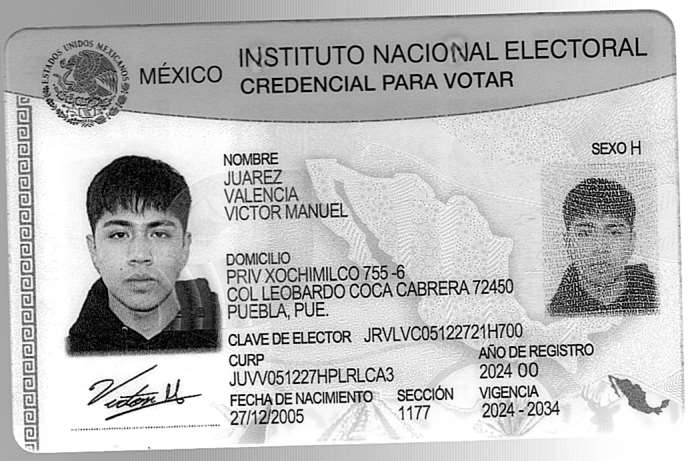ESCUDO: (41, 40, 130, 128)
MAPA: (607, 374, 671, 414)
PALABRA: (505, 37, 648, 60)
